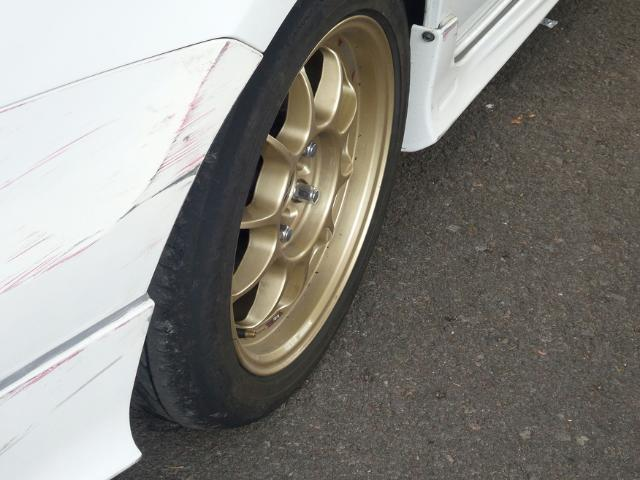Door: (2, 25, 218, 480)
